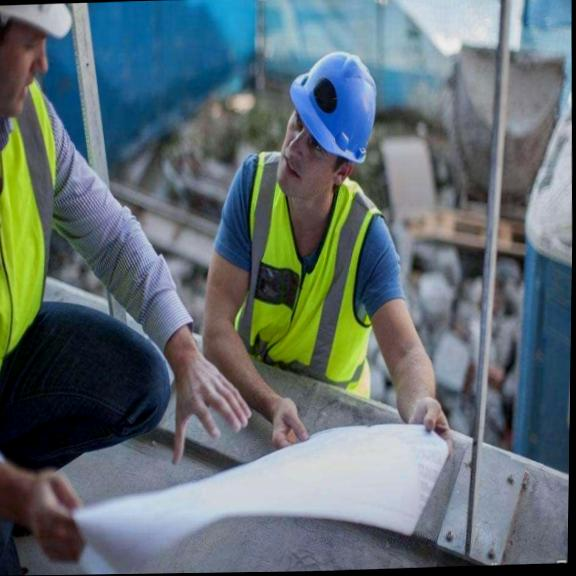safety_vest: (235, 149, 381, 381), (0, 85, 66, 409)
